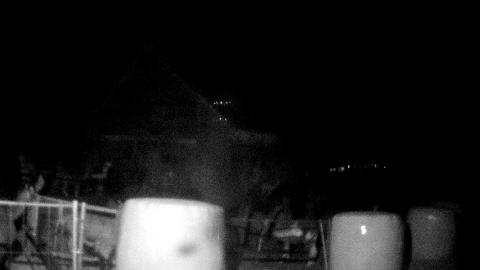sheep: (61, 201, 128, 270), (268, 219, 320, 267), (0, 184, 42, 222)
